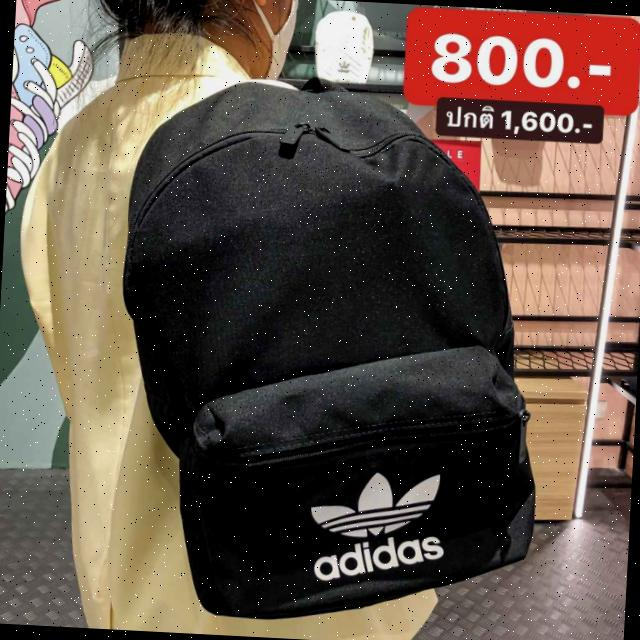handbag: (102, 71, 560, 634)
